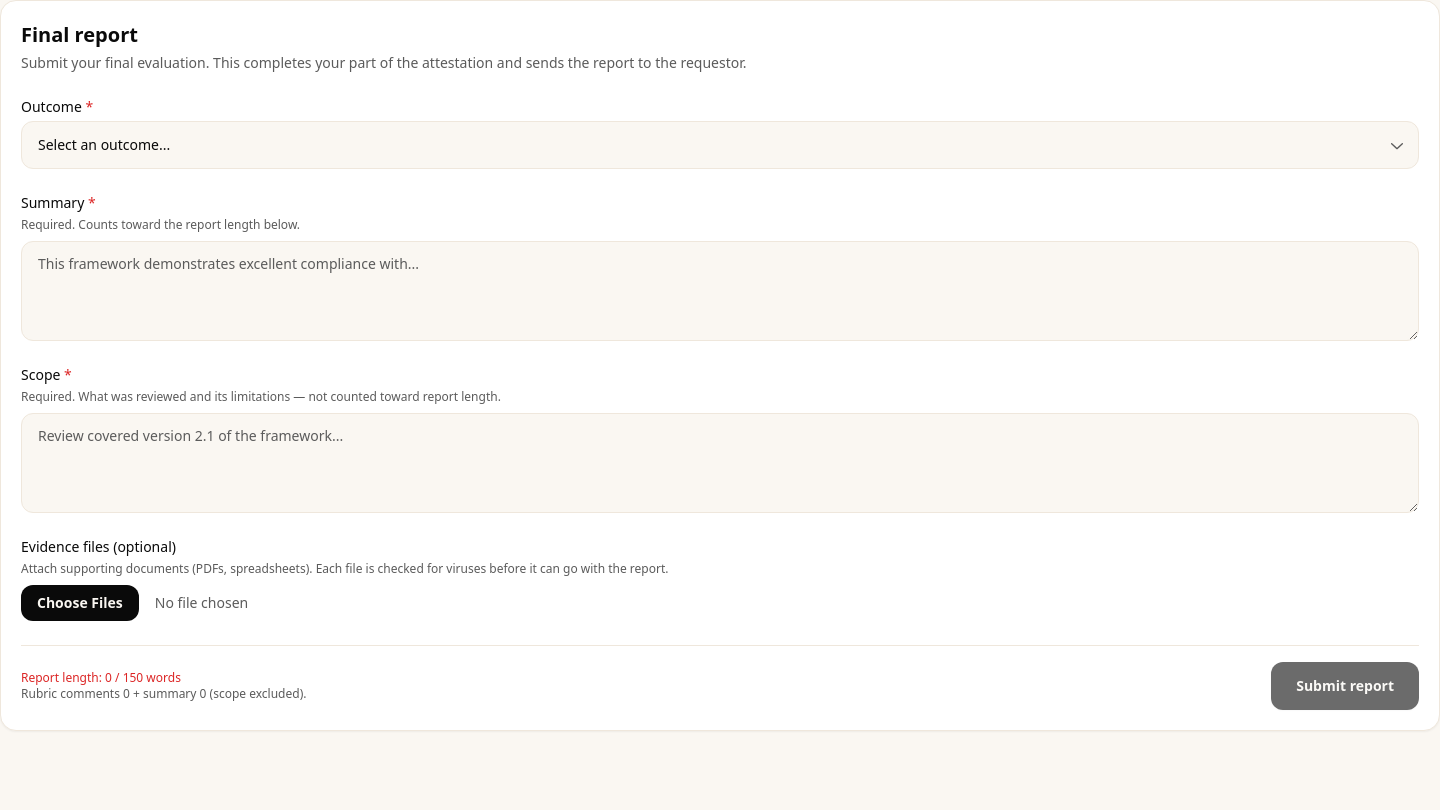
Test case: ReportPanel › surfaces quality-gate failures returned on submit
Select "Approved" in the dropdown at point(720, 145), box [21,121,1419,169]
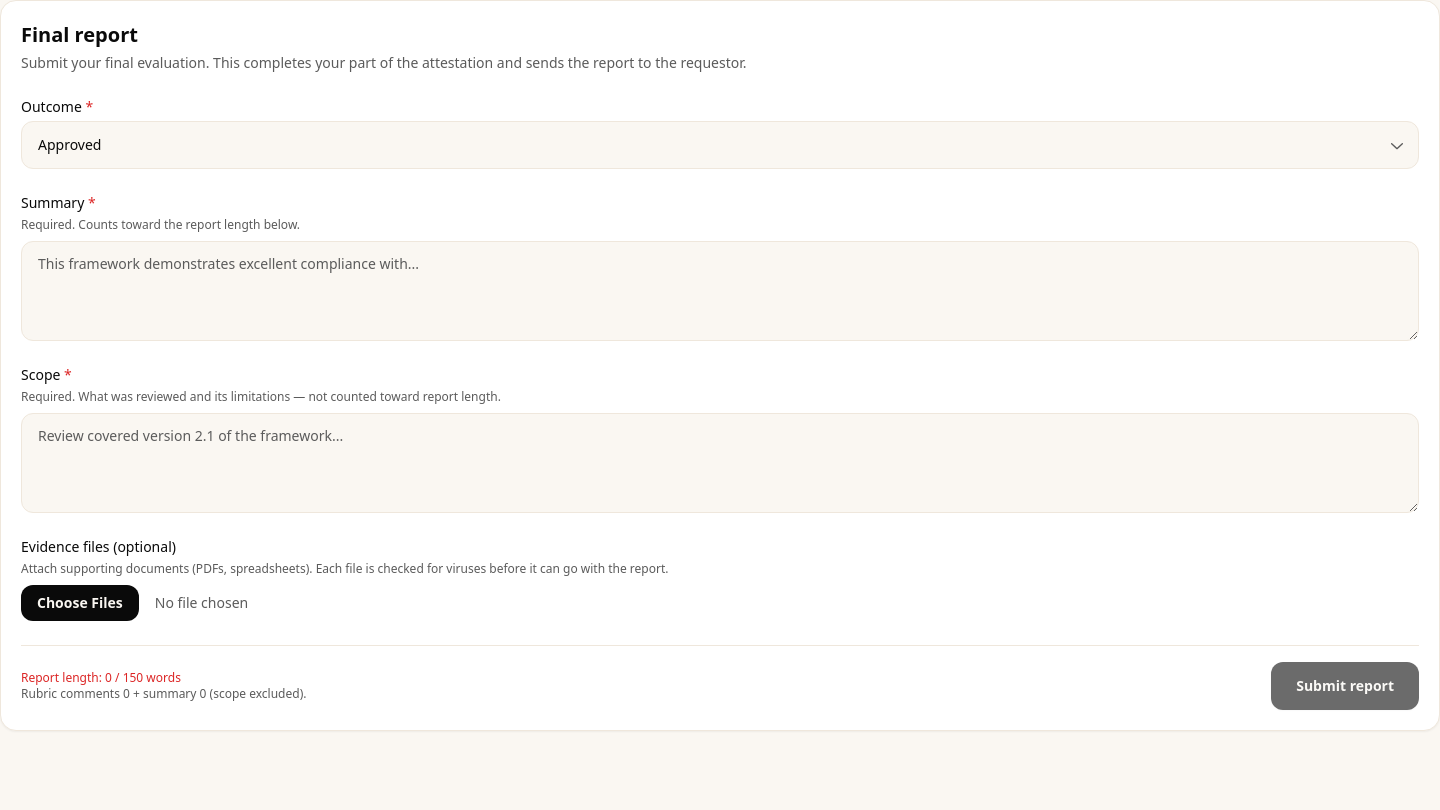
Type "This review summary is long enough for submission." into the text box with placeholder "This framework demonstrates excellent compliance with..." at point(720, 291), box [21,241,1419,341]
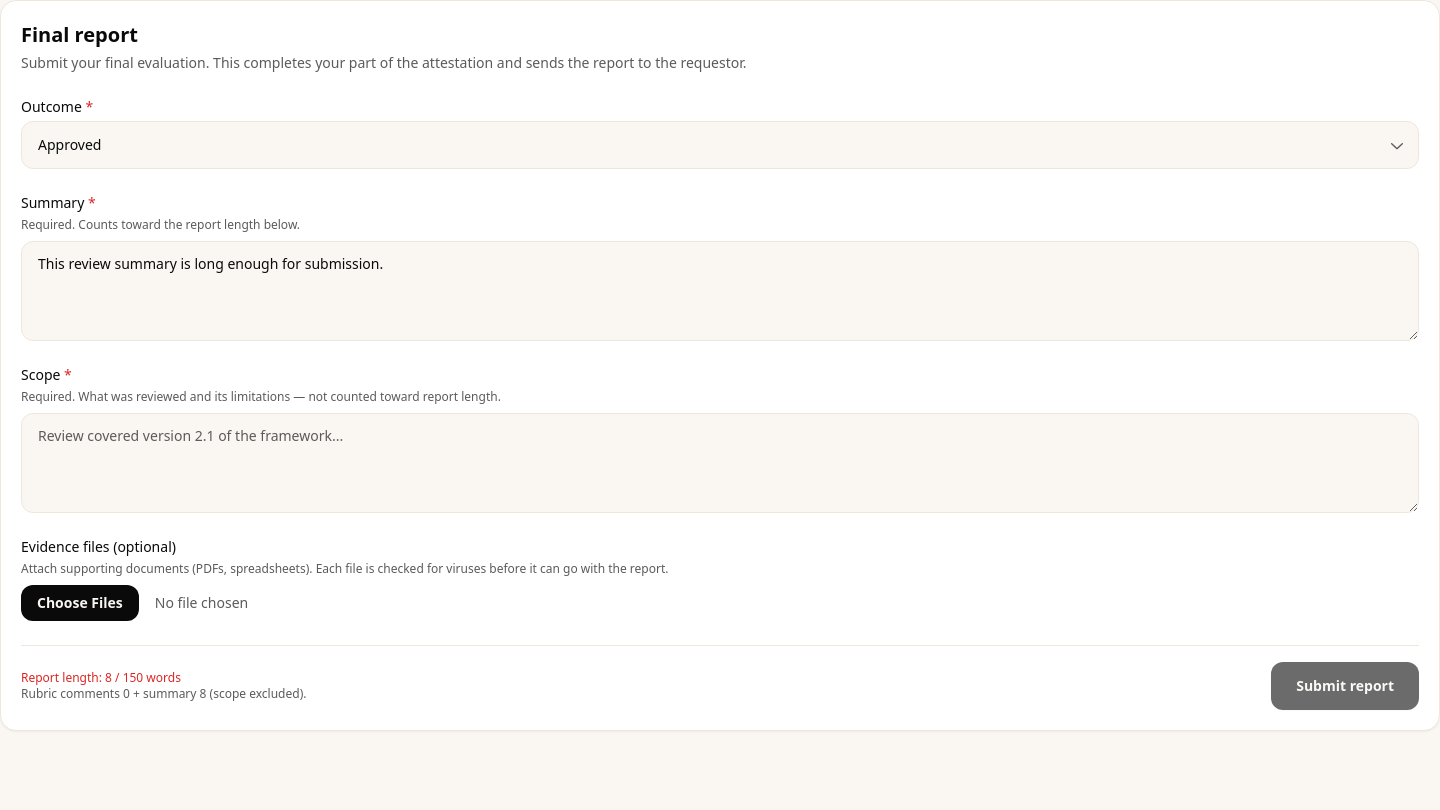
Type "Reviewed the framework artifacts and supporting notes." into the text box with placeholder "Review covered version 2.1 of the framework..." at point(720, 463), box [21,413,1419,513]
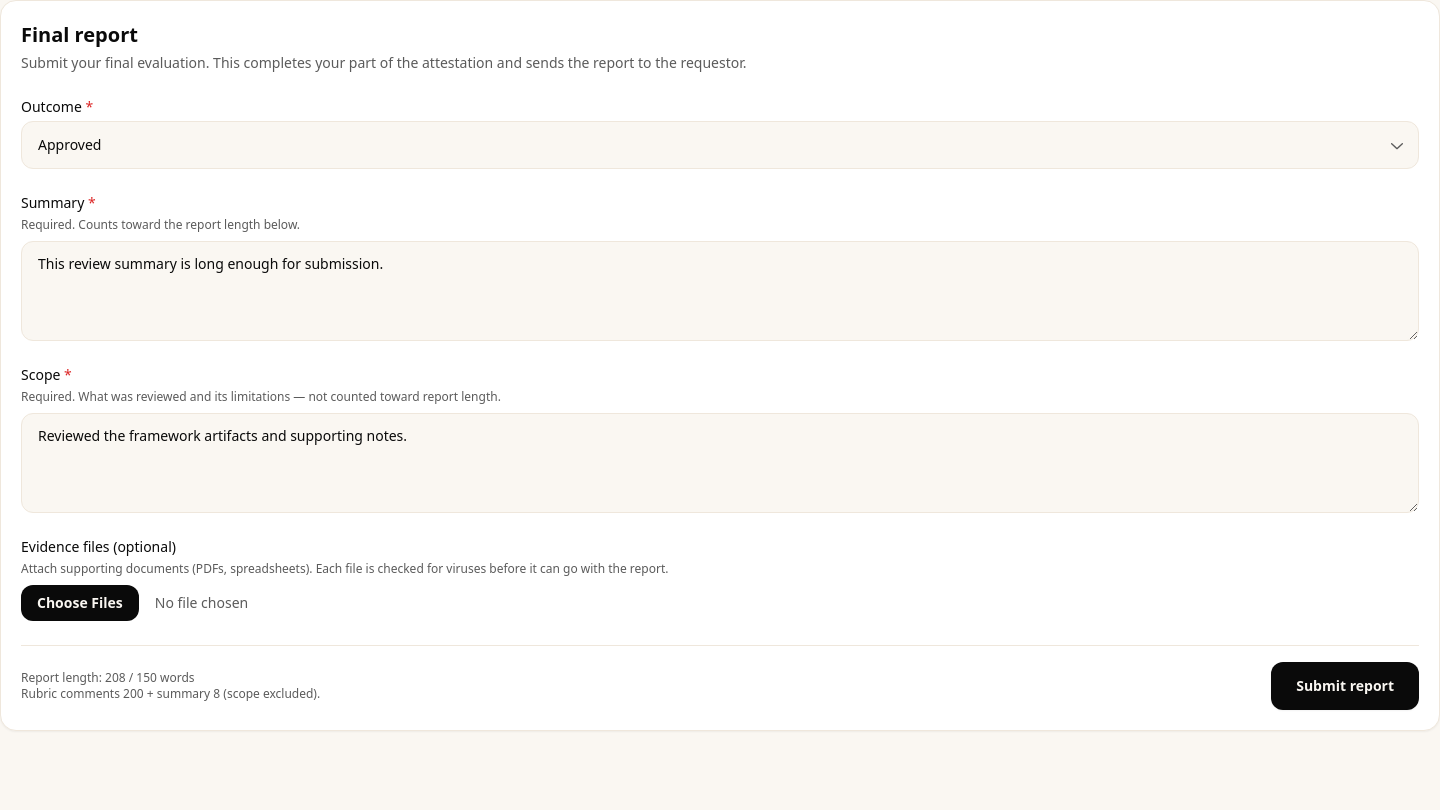
Expected: the button "Submit report" is enabled
Click the button "Submit report" at point(1345, 686), box [1271,662,1419,710]
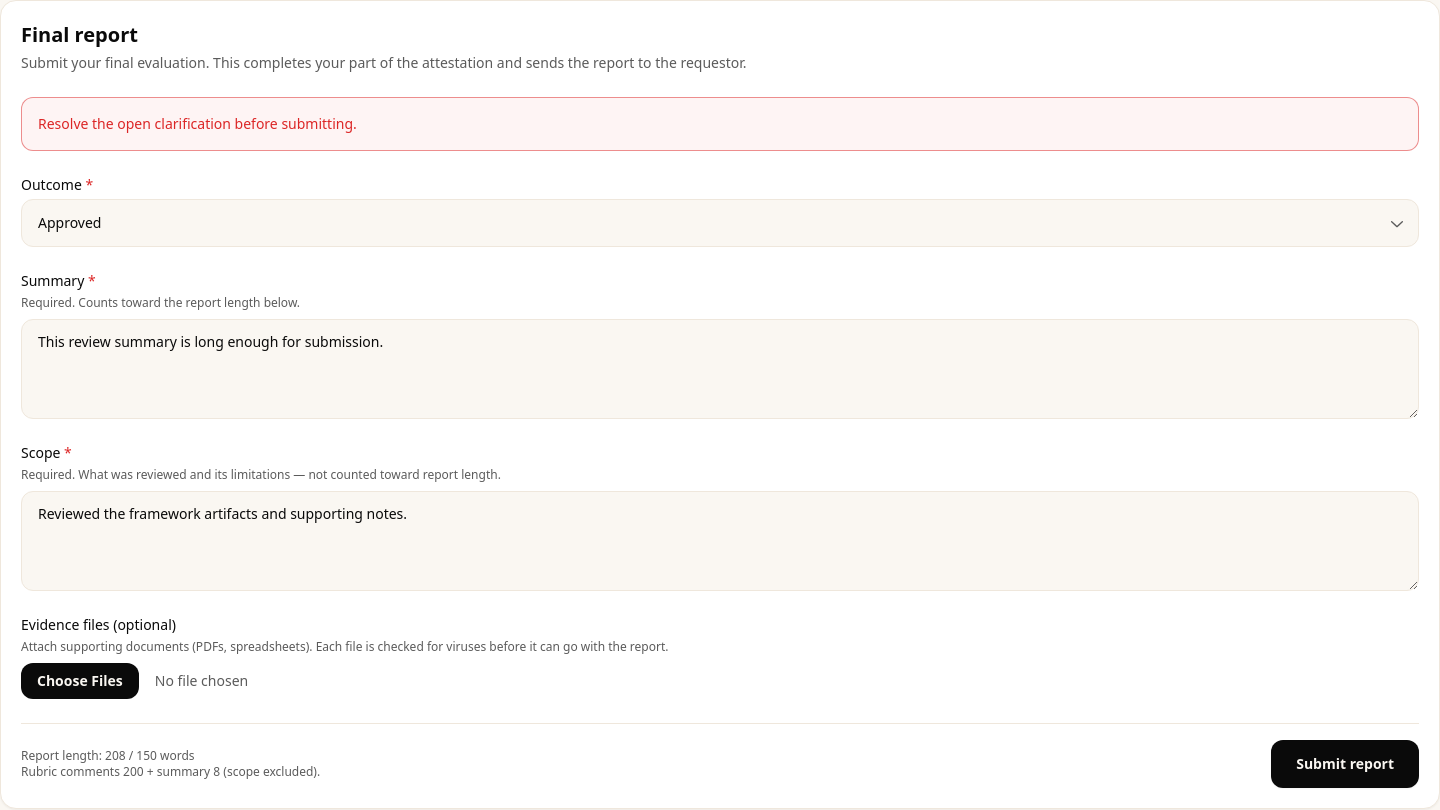
Expected: the text "Resolve the open clarification before submitting." is shown, [21,97,1419,151]
